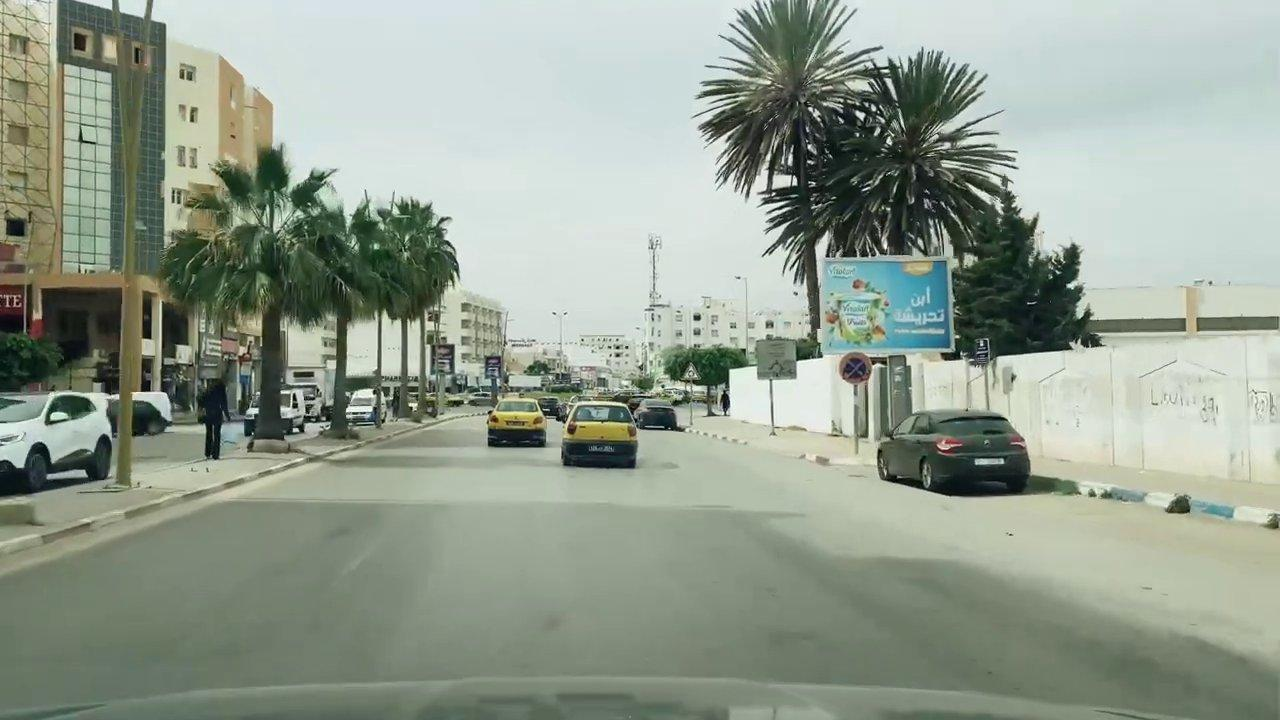no stopping: (838, 353, 872, 386)
